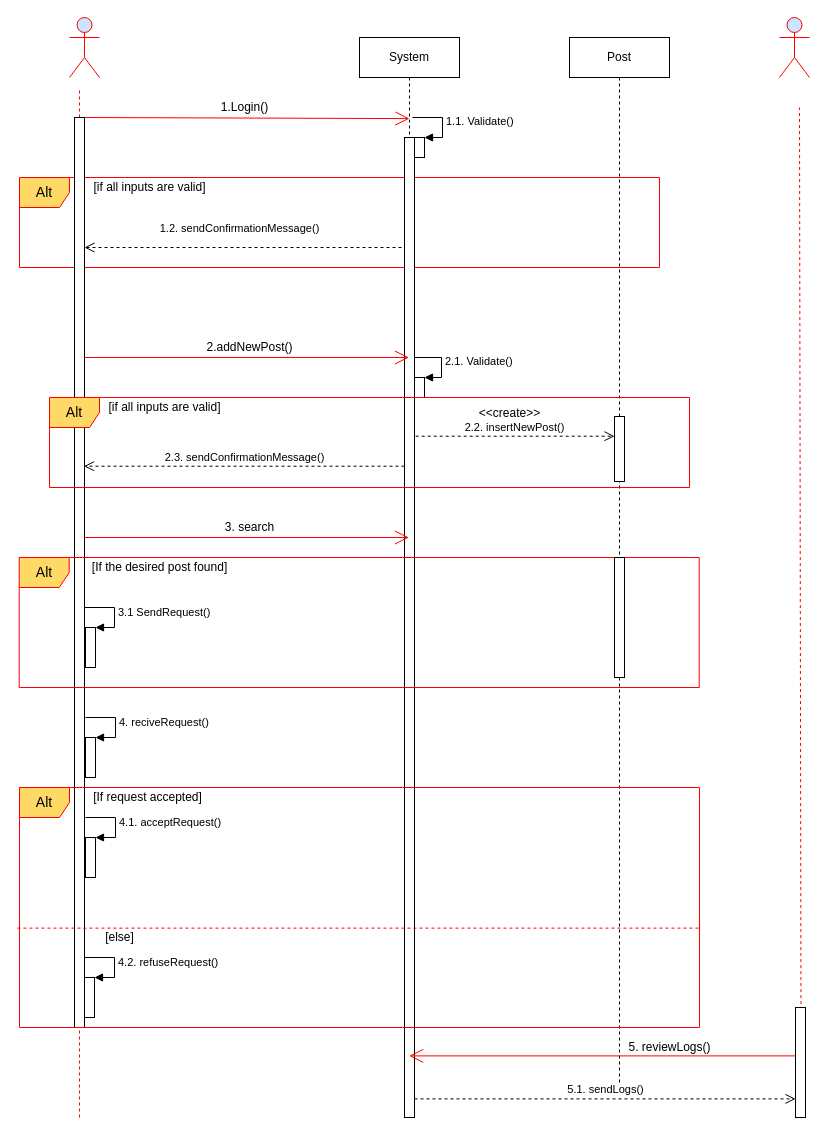
Image size: 829x1137. Some labels were removed from this diagram. Each missing label, with the box of its shape:
Admin: (778, 16, 810, 78)
User: (68, 16, 100, 78)
